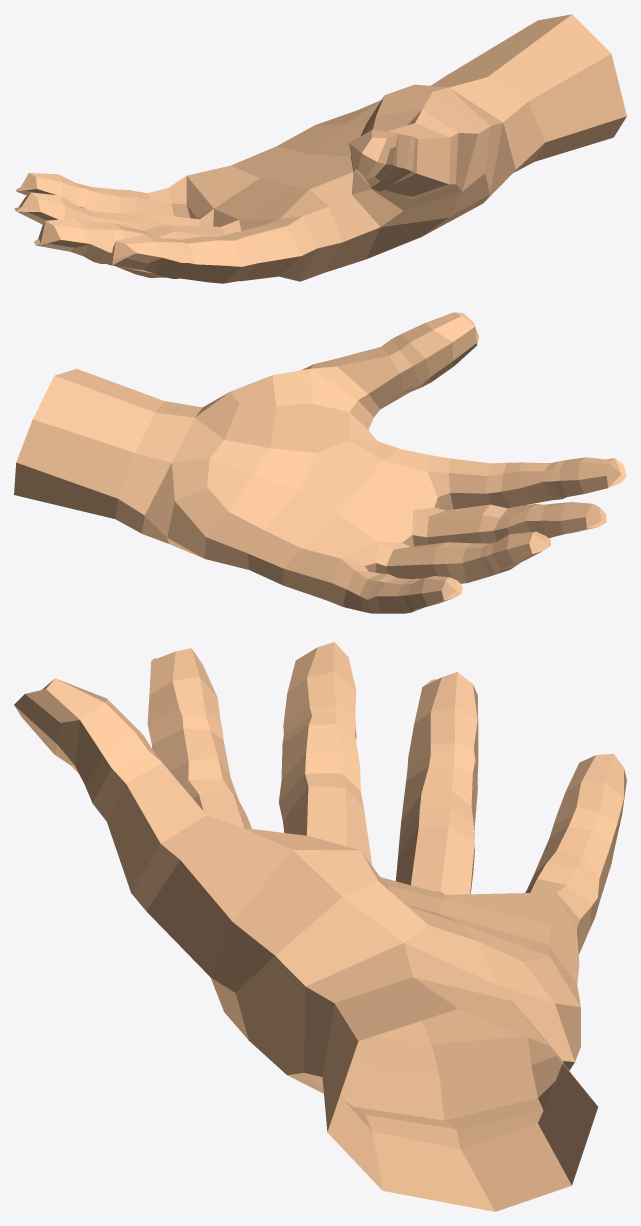
The model's file is hand2.glb.
The picture shows the model from 3 angles, top to bottom: view 1: azimuth 30°, elevation 25°; view 2: azimuth 150°, elevation 25°; view 3: azimuth 270°, elevation 25°; orthographic projection. The views are drawn at different scales.
Parts seen in each view (by area): view 1: hand; view 2: hand; view 3: hand.
Part boxes in pixels (x1,y1,x2,y2): hand: [14, 14, 626, 283]; hand: [14, 312, 626, 613]; hand: [14, 642, 626, 1211].
Size of the model in its own units: 1.05 by 0.3598 by 0.6063.
